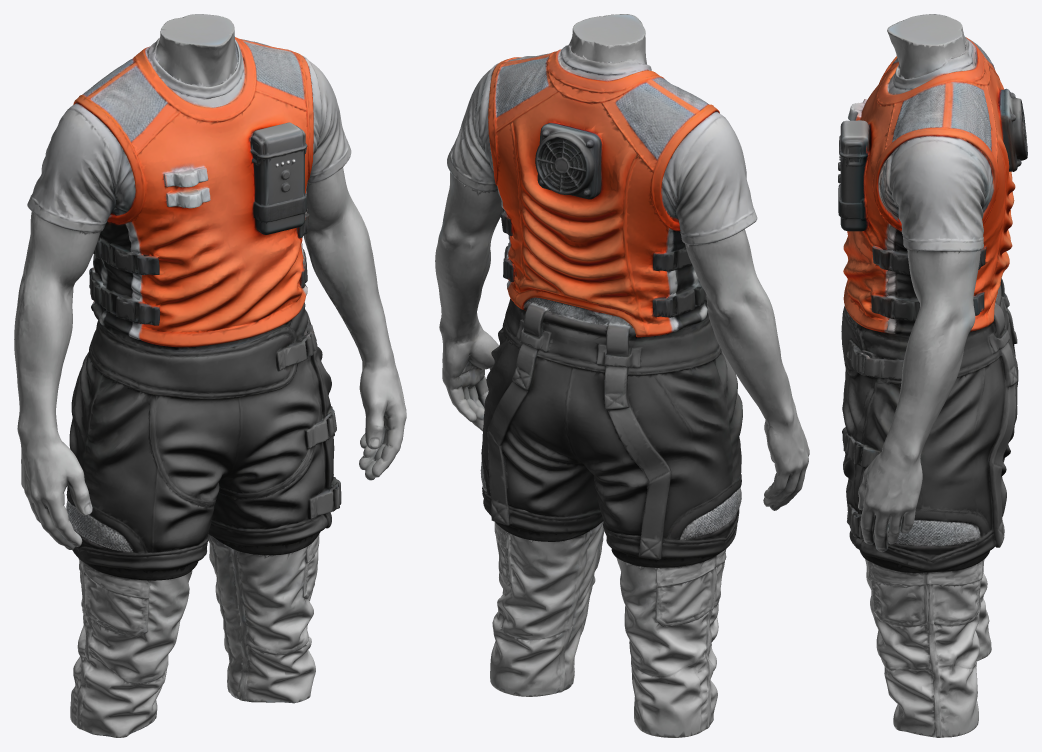
File: Orange_H-web.glb
3 renders of one model, left to right at view 1: azimuth 30°, elevation 25°; view 2: azimuth 150°, elevation 25°; view 3: azimuth 270°, elevation 25°, orthographic. The views are drawn at different scales.
Parts seen in each view (by area): view 1: haptic vest 3d model; view 2: haptic vest 3d model; view 3: haptic vest 3d model.
Part boxes in pixels (left/top/right/bottom): haptic vest 3d model: left=14, top=14, right=406, bottom=737; haptic vest 3d model: left=435, top=14, right=809, bottom=737; haptic vest 3d model: left=838, top=14, right=1027, bottom=737.
Bounding box in the file's own units: 0.5571 × 0.981 × 0.2573.
1 material, 1 textured.
